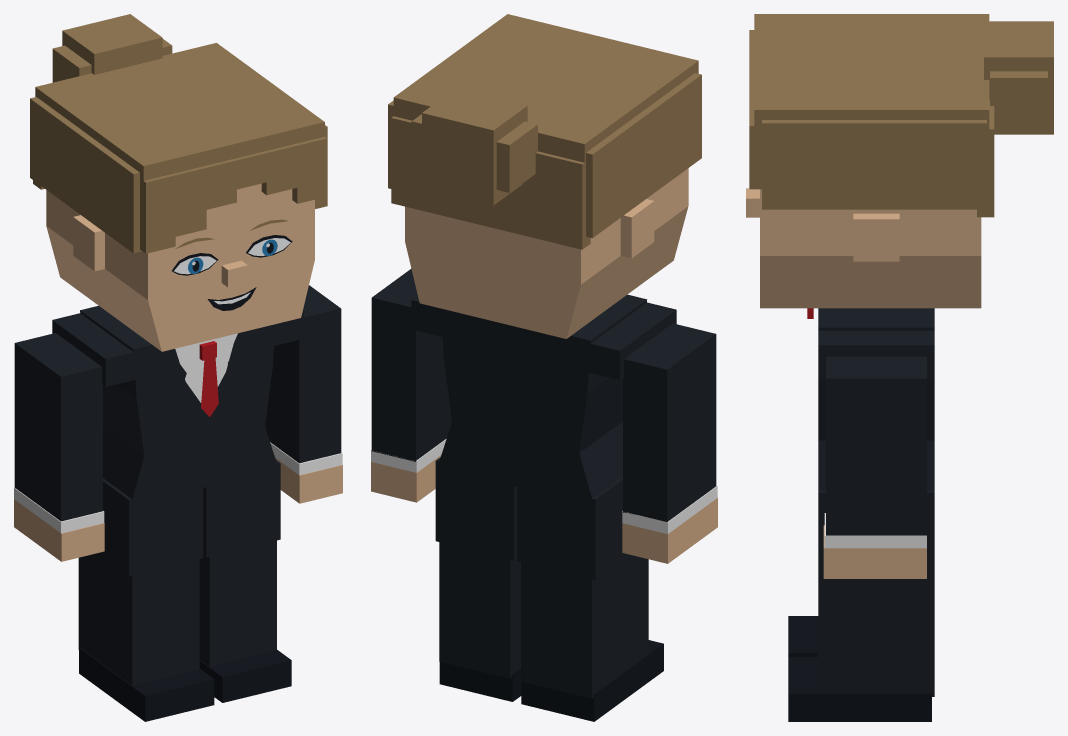
File: female_bun.glb
3 views of the same model, side by side, from view 1: azimuth 30°, elevation 25°; view 2: azimuth 150°, elevation 25°; view 3: azimuth 270°, elevation 25° (orthographic). The views are drawn at different scales.
Parts seen in each view (by area): view 1: char_hair_visual, char_torso_visual, char_head_visual, char_leg_negx_visual, char_arm_negx_visual, char_leg_posx_visual, char_arm_posx_visual, char_hand_negx_visual, char_hand_posx_visual, char_eye_negx_visual, char_eye_posx_visual; view 2: char_hair_visual, char_torso_visual, char_head_visual, char_leg_negx_visual, char_arm_negx_visual, char_arm_posx_visual, char_leg_posx_visual, char_hand_negx_visual, char_hand_posx_visual; view 3: char_hair_visual, char_head_visual, char_arm_posx_visual, char_leg_posx_visual, char_torso_visual, char_hand_posx_visual, char_leg_negx_visual.
Boxes of the visible parts, x1,y1,x2,y2 form: char_hair_visual: (30, 14, 327, 253); char_torso_visual: (52, 305, 303, 576); char_head_visual: (46, 183, 314, 351); char_leg_negx_visual: (78, 553, 214, 721); char_arm_negx_visual: (14, 333, 104, 533); char_leg_posx_visual: (199, 535, 291, 702); char_arm_posx_visual: (265, 285, 342, 475); char_hand_negx_visual: (14, 499, 104, 561); char_hand_posx_visual: (275, 458, 342, 503); char_eye_negx_visual: (172, 253, 218, 275); char_eye_posx_visual: (246, 235, 292, 257); char_hair_visual: (388, 14, 701, 249); char_torso_visual: (411, 294, 676, 579); char_head_visual: (405, 168, 688, 338); char_leg_negx_visual: (521, 555, 663, 721); char_arm_negx_visual: (622, 323, 717, 534); char_arm_posx_visual: (371, 269, 451, 472); char_leg_posx_visual: (439, 536, 521, 701); char_hand_negx_visual: (622, 498, 717, 563); char_hand_posx_visual: (371, 455, 441, 502); char_hair_visual: (749, 14, 1053, 217); char_head_visual: (746, 188, 981, 308); char_arm_posx_visual: (824, 356, 926, 548); char_leg_posx_visual: (788, 575, 934, 721); char_torso_visual: (807, 308, 934, 575); char_hand_posx_visual: (823, 525, 926, 578); char_leg_negx_visual: (788, 616, 818, 656).
Bounding box in the file's own units: 0.91 × 1.83 × 0.793.
